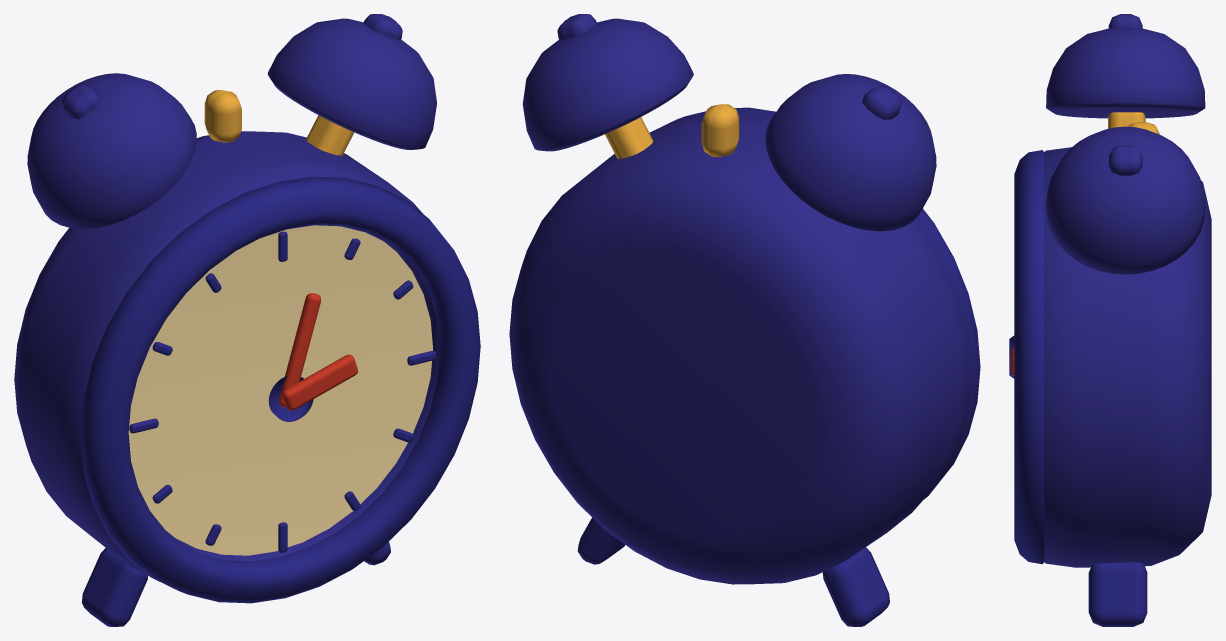
Rendered from mantel-clock.glb.
3 renders of one model, left to right at view 1: azimuth 30°, elevation 25°; view 2: azimuth 150°, elevation 25°; view 3: azimuth 270°, elevation 25°, orthographic. The views are drawn at different scales.
Visible parts, largest first — view 1: mantel-clock; view 2: mantel-clock; view 3: mantel-clock.
Part boxes in pixels (x1,y1,x2,y2): mantel-clock: (14, 14, 480, 626); mantel-clock: (509, 14, 980, 626); mantel-clock: (1009, 14, 1211, 626).
Bounding box in the file's own units: 0.722 × 0.9173 × 0.346.
